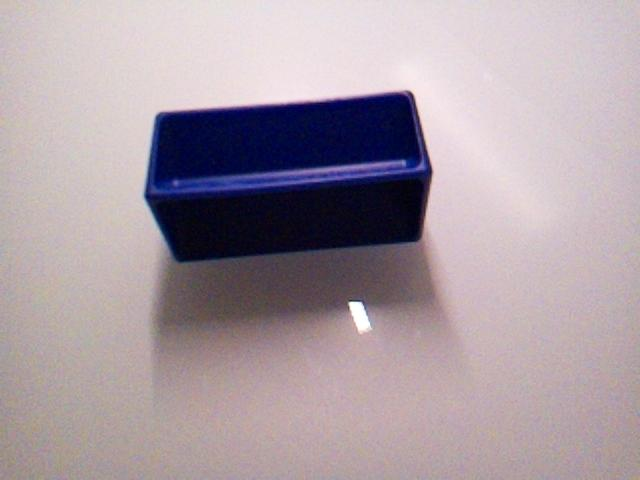blue: (143, 88, 434, 264)
